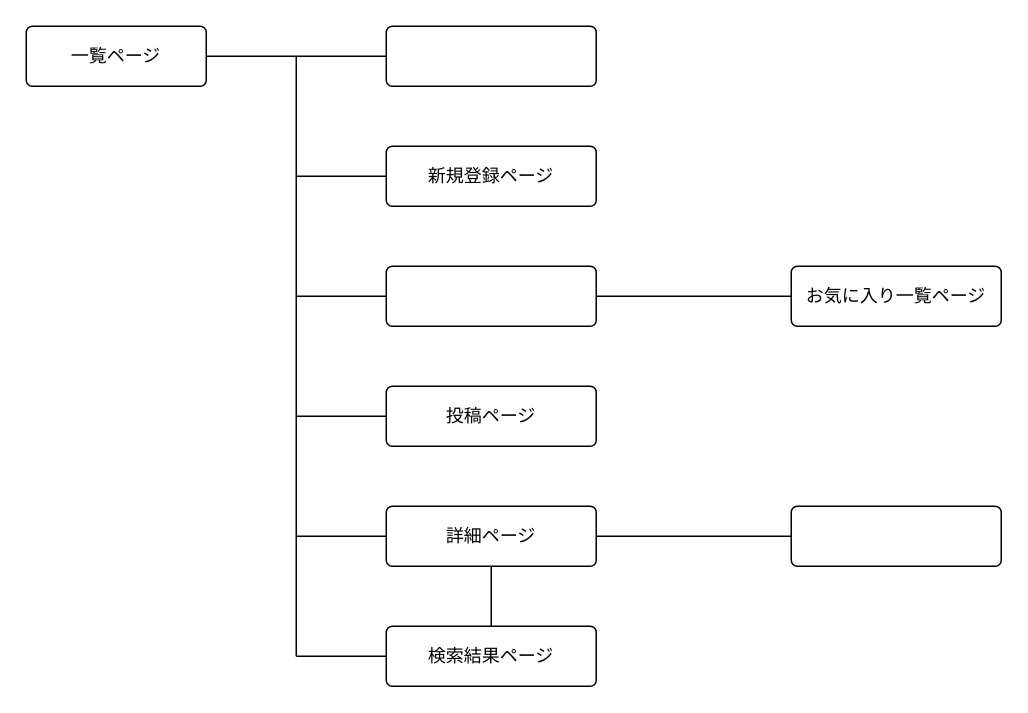
This 1028x713 diagram has some shape labels left out. Here are the shapes that lost their labels. From the top down, the box of each, then its label:
(385, 25, 596, 86): ユーザーログインページ
(385, 265, 596, 326): ユーザーマイページ
(790, 505, 1001, 566): 編集ページ
